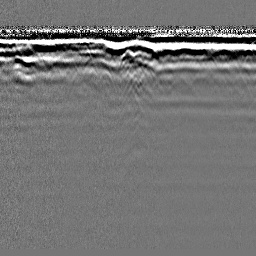cavity: (119, 47, 137, 69)
